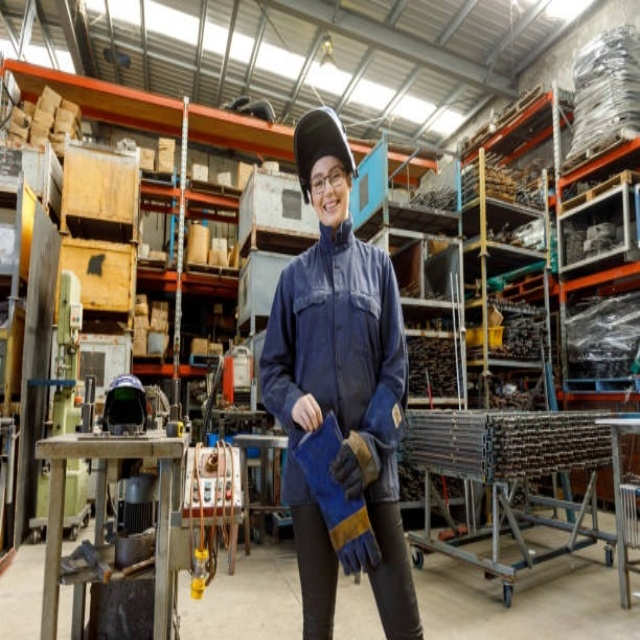Gafas: (306, 162, 346, 191)
Guantes: (326, 376, 408, 508)
Sin_guantes: (290, 389, 323, 433)
Sin_mascara: (317, 191, 345, 221)
